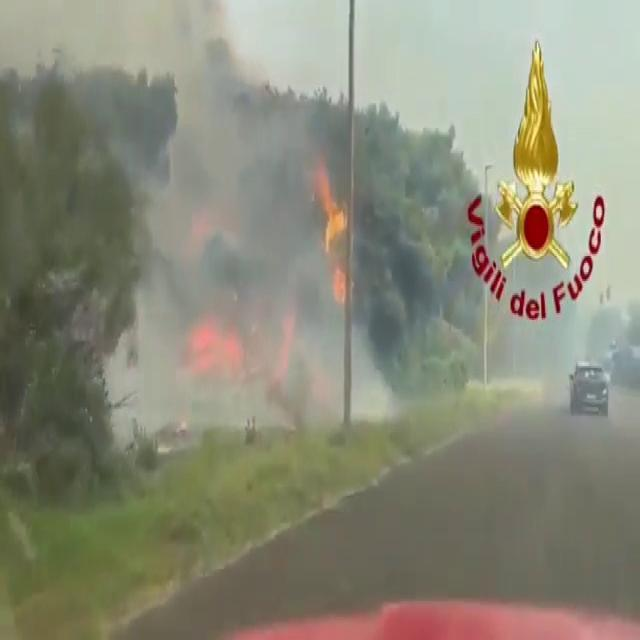Fire: (318, 180, 358, 308)
Smoke: (111, 43, 378, 432)
